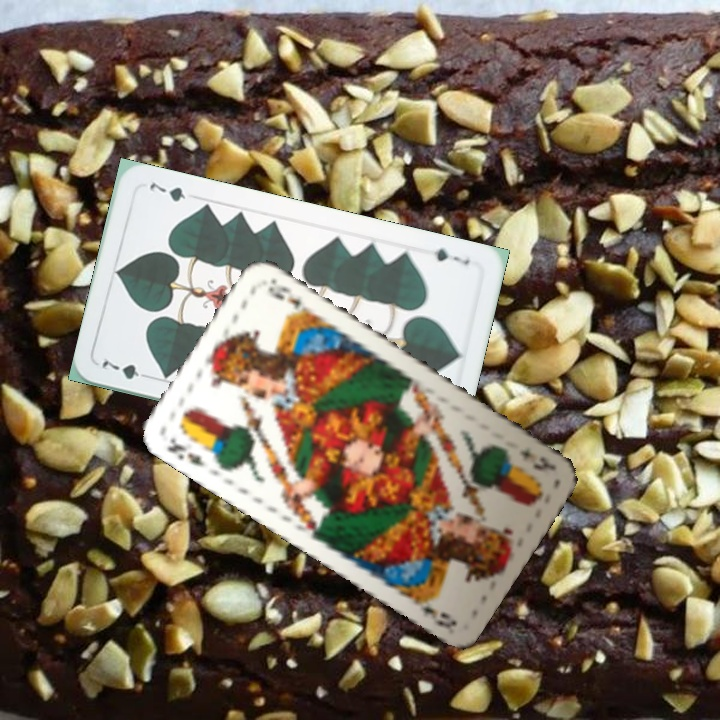EK: (162, 433, 207, 469), (515, 445, 558, 474)
G7: (97, 356, 155, 382), (429, 244, 472, 268)
